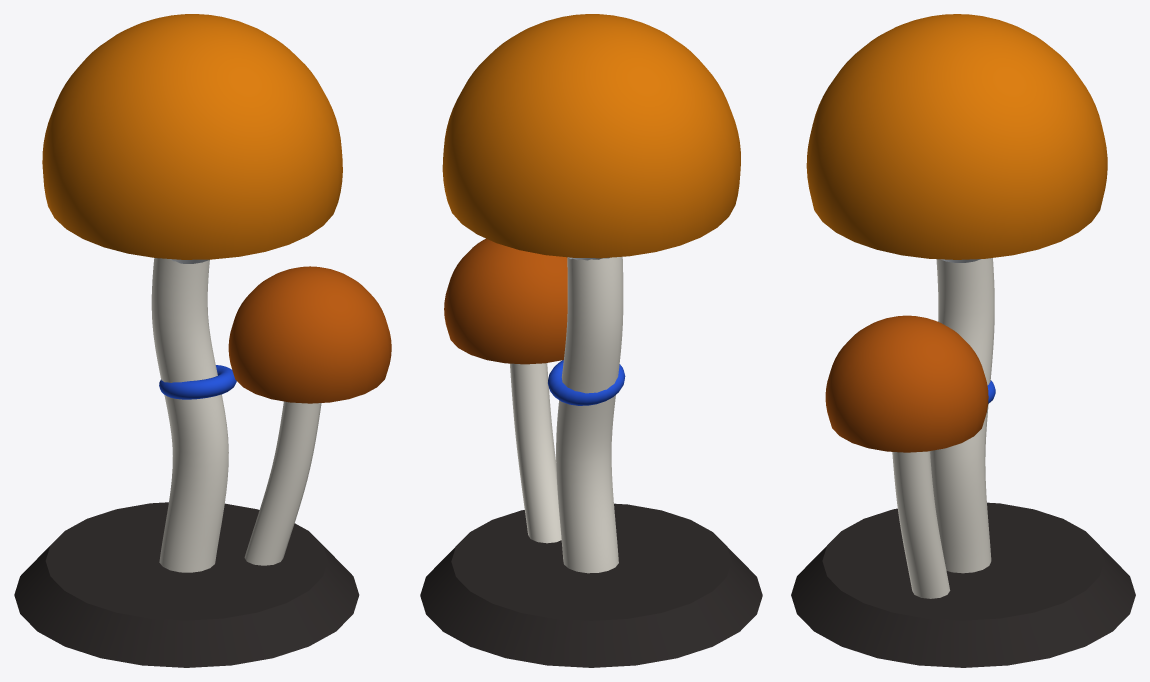
The model's file is psilocybin_mushroom.glb.
The picture shows the model from 3 angles, left to right: view 1: azimuth 30°, elevation 25°; view 2: azimuth 150°, elevation 25°; view 3: azimuth 270°, elevation 25°; orthographic projection.
Parts seen in each view (by area): view 1: PsilocybinCluster; view 2: PsilocybinCluster; view 3: PsilocybinCluster.
Part boxes in pixels (<box>): PsilocybinCluster: <box>14,14,391,667</box>; PsilocybinCluster: <box>420,14,762,667</box>; PsilocybinCluster: <box>791,14,1135,667</box>.
Size of the model in its own units: 1.16 by 2 by 1.1.
